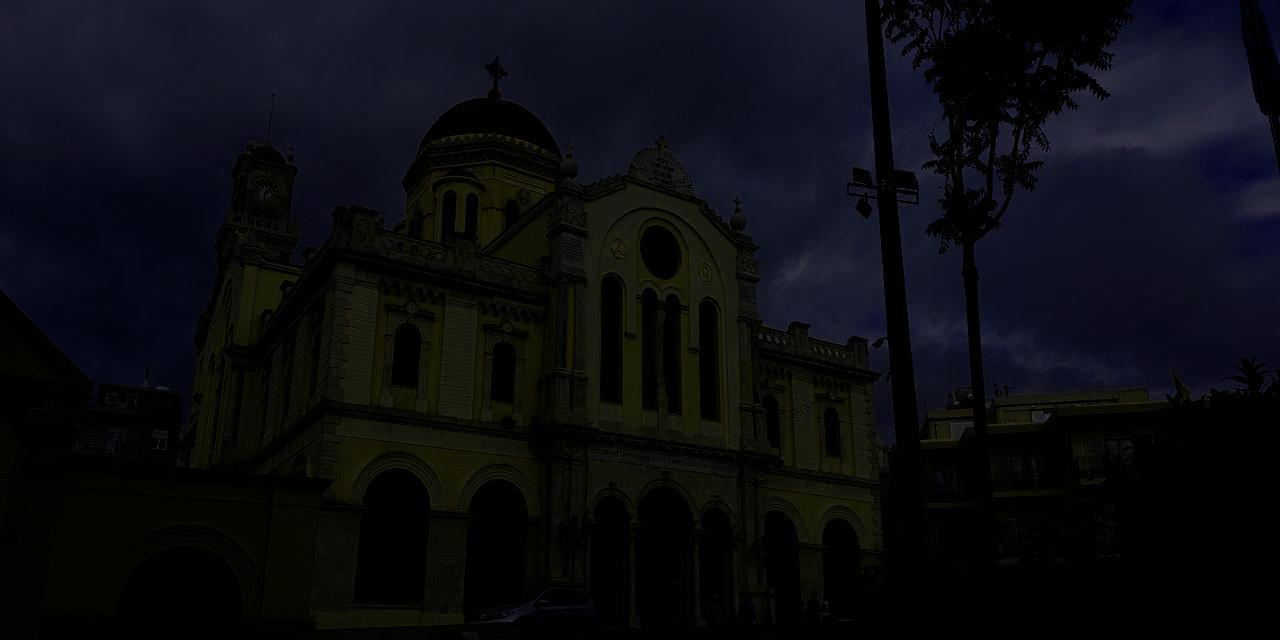Agios Minas: (193, 29, 885, 620)
